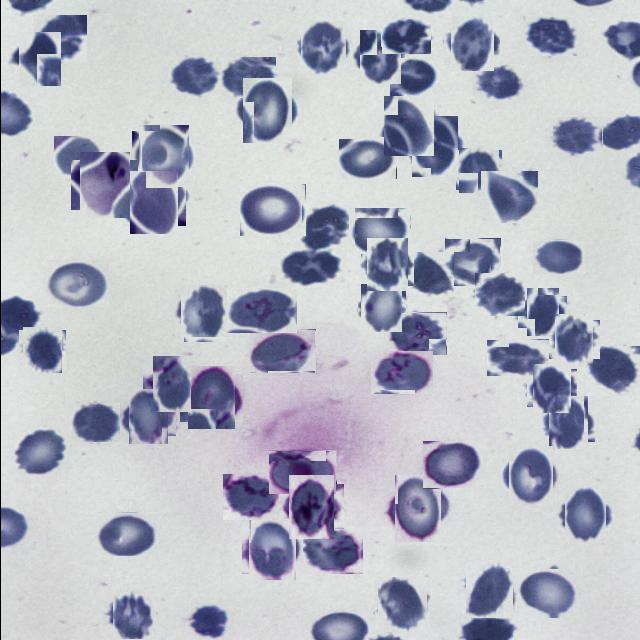red blood cell: (239, 184, 305, 236), (238, 82, 296, 140), (389, 480, 446, 537), (134, 128, 190, 184), (182, 370, 238, 426), (124, 174, 180, 230), (380, 98, 436, 154), (516, 569, 579, 618), (226, 289, 296, 333), (298, 526, 362, 574), (283, 479, 338, 534), (268, 450, 336, 494), (244, 523, 299, 577), (249, 329, 315, 374), (480, 171, 537, 223), (45, 260, 108, 307), (407, 119, 461, 173), (348, 207, 410, 254), (422, 442, 483, 489), (370, 350, 433, 394), (375, 579, 428, 631), (585, 346, 640, 396), (96, 512, 158, 556), (504, 450, 556, 502), (177, 288, 229, 340), (462, 564, 514, 616), (13, 428, 69, 476), (444, 238, 500, 286), (222, 474, 280, 520), (560, 490, 610, 540), (298, 23, 348, 73), (446, 18, 496, 68), (388, 312, 446, 355), (33, 15, 86, 62), (338, 138, 396, 180), (14, 35, 63, 83), (301, 205, 354, 249), (486, 339, 549, 376), (146, 360, 194, 408), (356, 33, 404, 81), (110, 591, 158, 639), (123, 393, 171, 440), (220, 57, 275, 98), (280, 249, 340, 286), (474, 274, 524, 318), (363, 242, 410, 288), (405, 252, 453, 297), (169, 55, 220, 97), (544, 400, 590, 446), (53, 136, 103, 178), (524, 18, 576, 58), (389, 58, 439, 99), (551, 317, 596, 362), (358, 286, 404, 330), (552, 116, 602, 156), (70, 404, 119, 444), (528, 366, 572, 410), (456, 148, 499, 192), (472, 64, 523, 101), (20, 328, 63, 371), (532, 240, 585, 274), (381, 19, 430, 54), (521, 292, 562, 332)
trophozoite: (74, 156, 133, 214)
